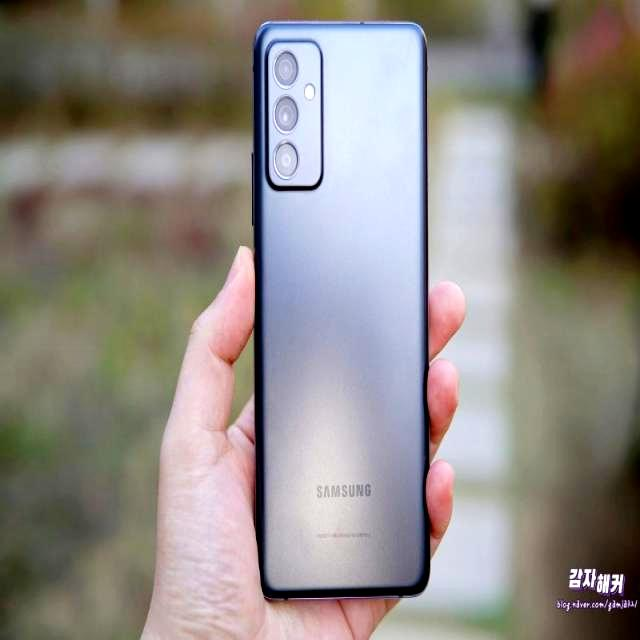lens_back: (270, 139, 302, 181), (272, 95, 300, 134), (272, 52, 300, 88)
phone: (248, 15, 435, 604)
